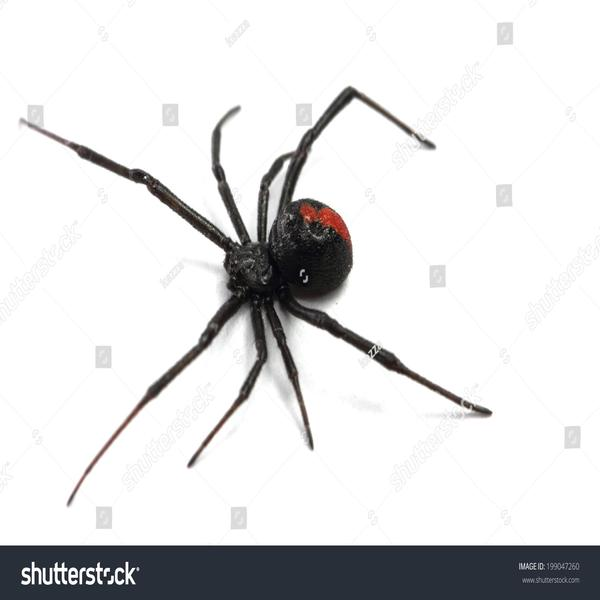Redback Spider: (33, 84, 491, 493)
